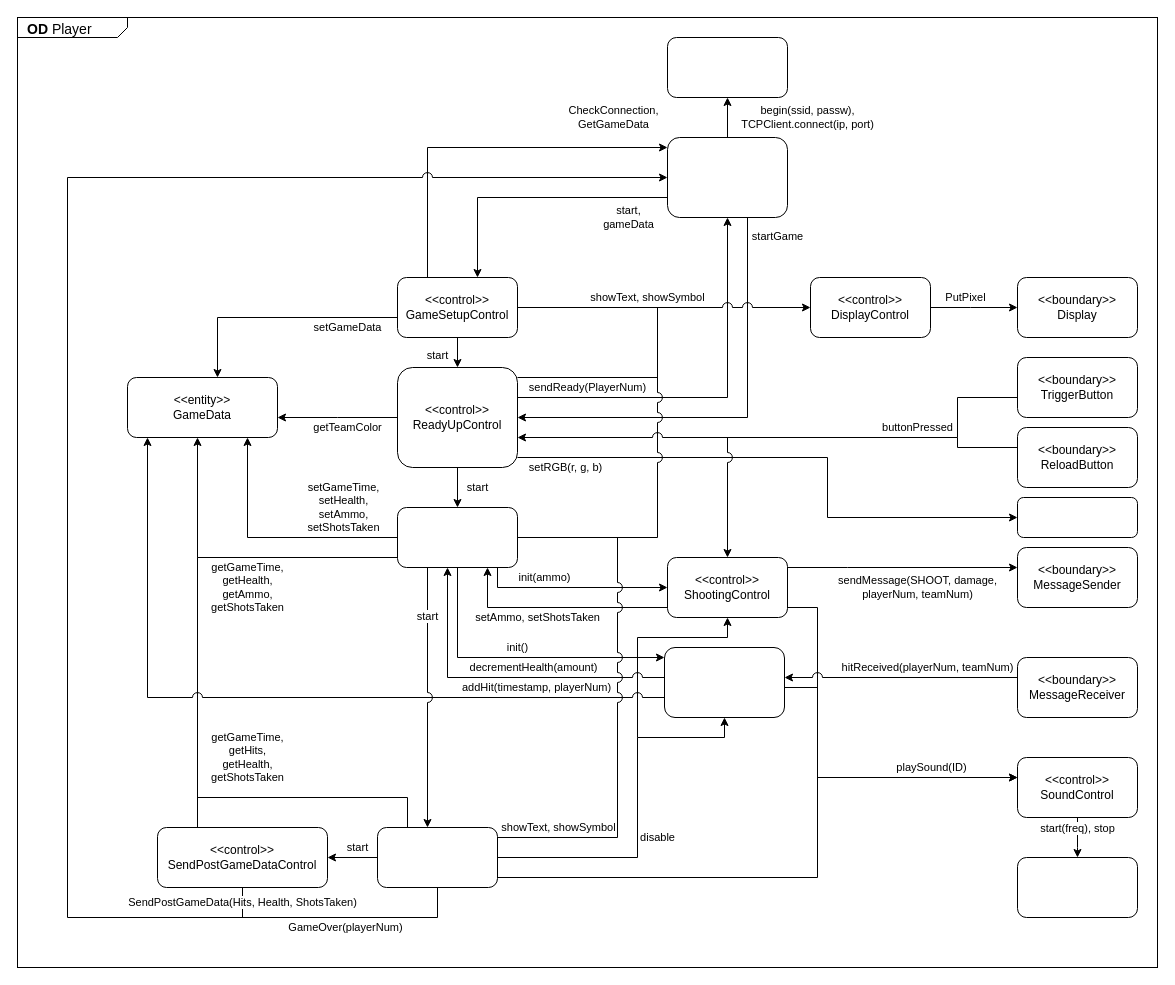
The diagram is 1175 pixels wide and 985 high, and some of its shapes have lost their labels. The box of each missing label's shape, as (x1, y1, x2, y2) in pixels:
<<boundary>> RGBLED: (1016, 496, 1138, 538)
<<boundary>> Speaker: (1016, 856, 1138, 918)
<<boundary>> WifiConnection: (666, 36, 788, 98)
<<control>> ConnectControl: (666, 136, 788, 218)
<<control>> GameOverControl: (376, 826, 498, 888)
<<control>> GameStateControl: (396, 506, 518, 568)
<<control>> ReceivingHitControl: (664, 646, 784, 718)
